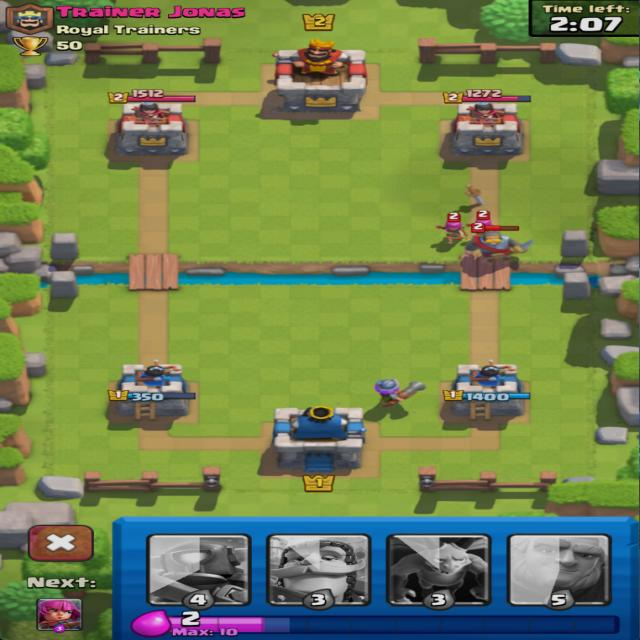Archers_Next: (23, 575, 96, 633)
Enemy_Archer_Troop: (439, 220, 465, 244)
Enemy_Knight_Troop: (466, 230, 534, 264)
Giant_Loading: (510, 535, 610, 611)
Knight_Loading: (264, 532, 374, 609)
Mini_Pekka_Loading: (147, 533, 250, 607)
Minions_Loading: (386, 536, 490, 610)
Musketeer_Troop: (374, 376, 428, 408)
